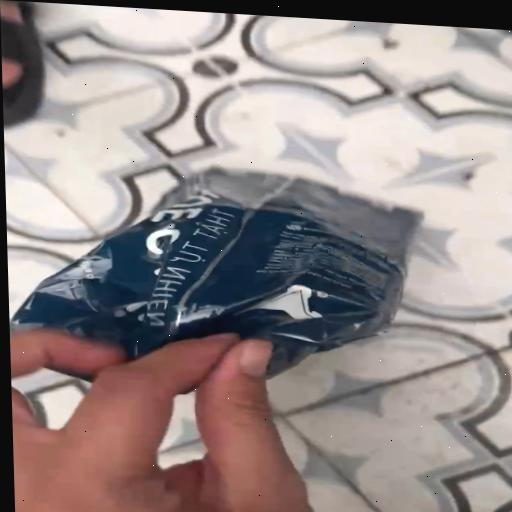cafe_hat: (10, 168, 422, 376)
